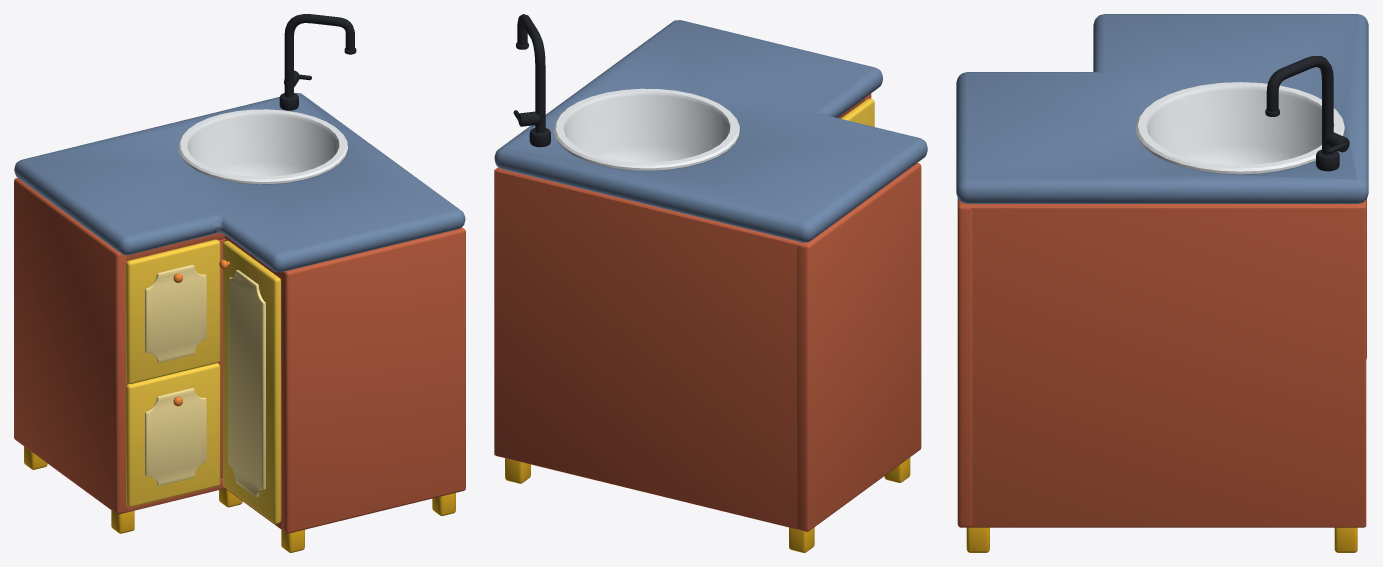
The model's file is armario_cozinha_canto_pia_classica.glb.
The picture shows the model from 3 angles, left to right: view 1: azimuth 30°, elevation 25°; view 2: azimuth 150°, elevation 25°; view 3: azimuth 270°, elevation 25°; orthographic projection. The views are drawn at different scales.
Parts seen in each view (by area): view 1: armario_cozinha_canto_pia_classica, porta_1, gaveta_1, gaveta_2; view 2: armario_cozinha_canto_pia_classica, porta_1; view 3: armario_cozinha_canto_pia_classica.
Part boxes in pixels (box(x1,y1,x2,y2)): armario_cozinha_canto_pia_classica: box(14, 14, 465, 552); porta_1: box(219, 240, 280, 523); gaveta_1: box(126, 239, 220, 384); gaveta_2: box(126, 363, 220, 507); armario_cozinha_canto_pia_classica: box(494, 14, 927, 552); porta_1: box(840, 98, 874, 126); armario_cozinha_canto_pia_classica: box(956, 14, 1368, 552).
Size of the model in its own units: 0.946 by 1.18 by 0.899.
1 material, 1 textured.
